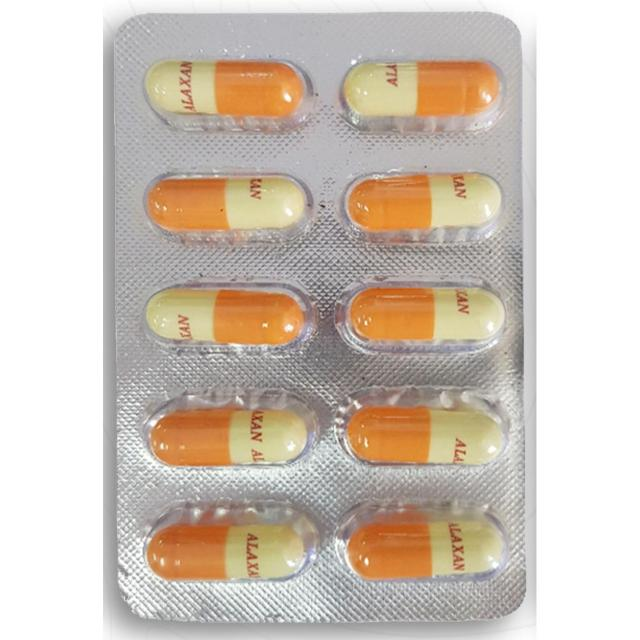blister: (106, 9, 528, 628)
